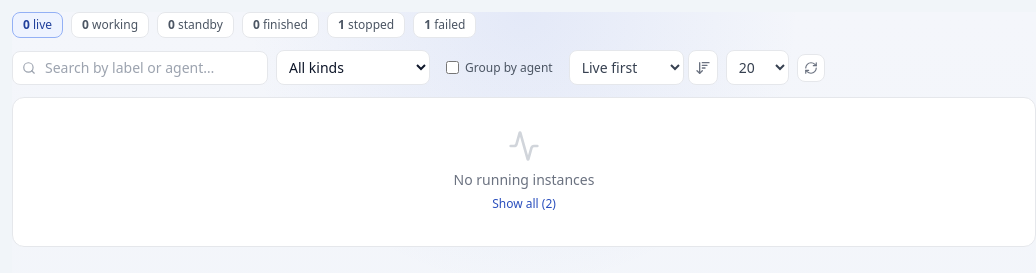
Test: InstanceList state chips › asks for the working states only and offers every copy
Expected: the text "No running instances" is shown, [454, 170, 594, 189]
Click the button "Show all (2)": (524,204) [492, 196, 556, 212]
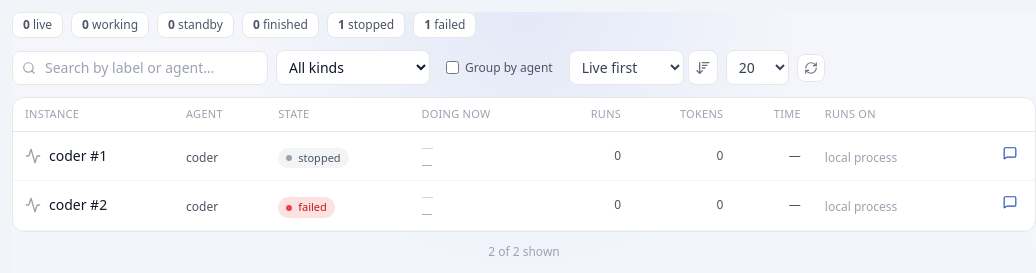
Result: the link "coder #1" is shown at [49, 146, 107, 166]
